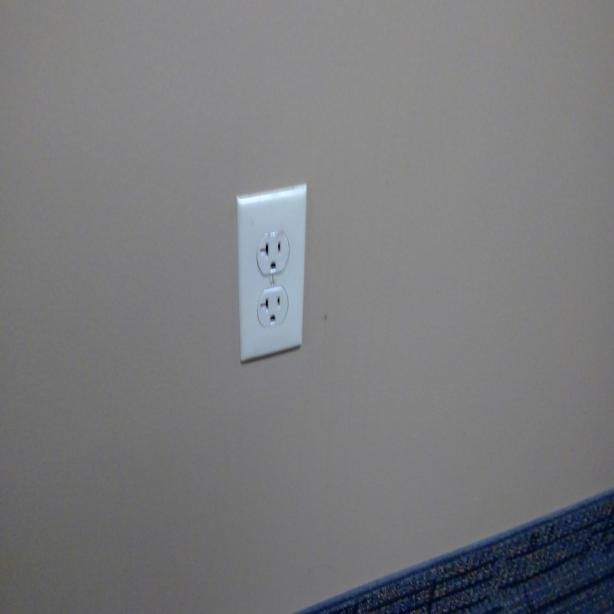typeb: (258, 291, 282, 325), (261, 239, 285, 269)
